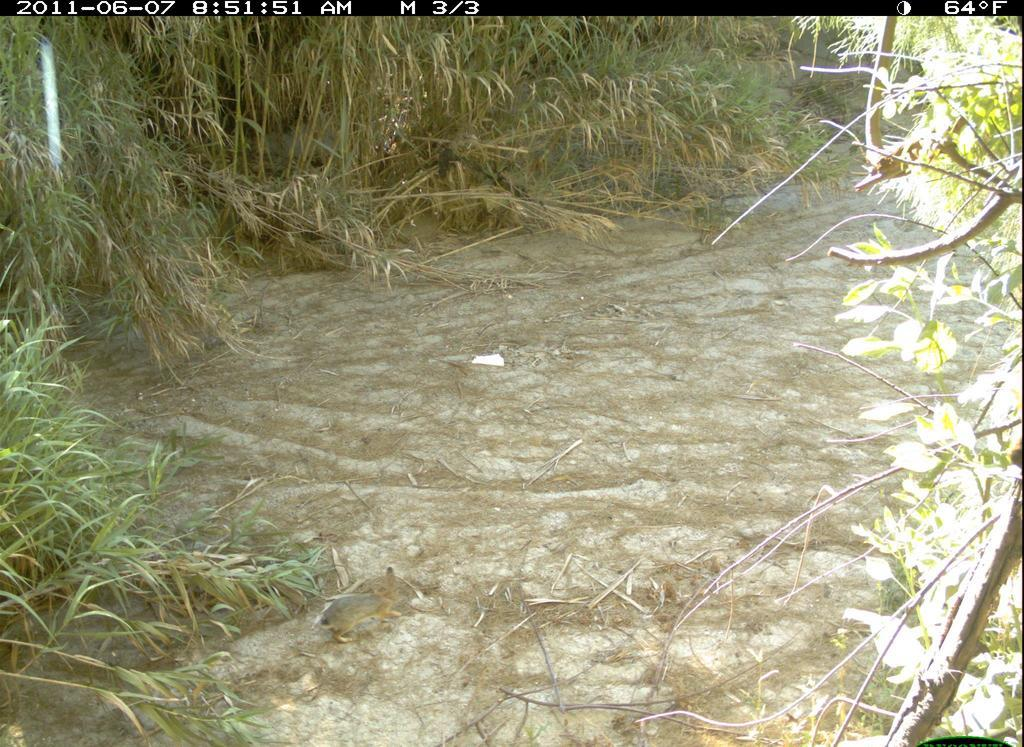rabbit: (322, 561, 431, 648)
